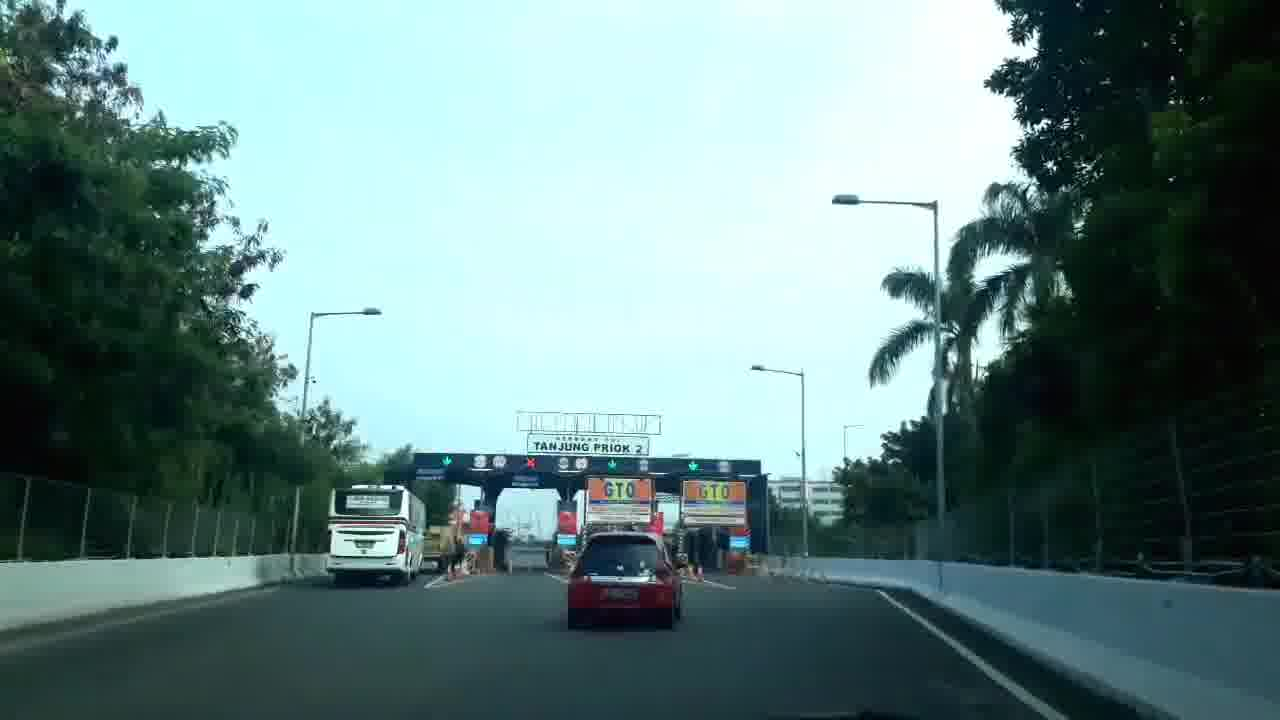plate_positive: (603, 590, 640, 602)
